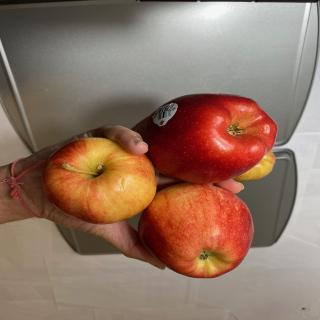Apple: (144, 93, 278, 184), (138, 182, 255, 279), (41, 137, 157, 224), (233, 150, 275, 182)
